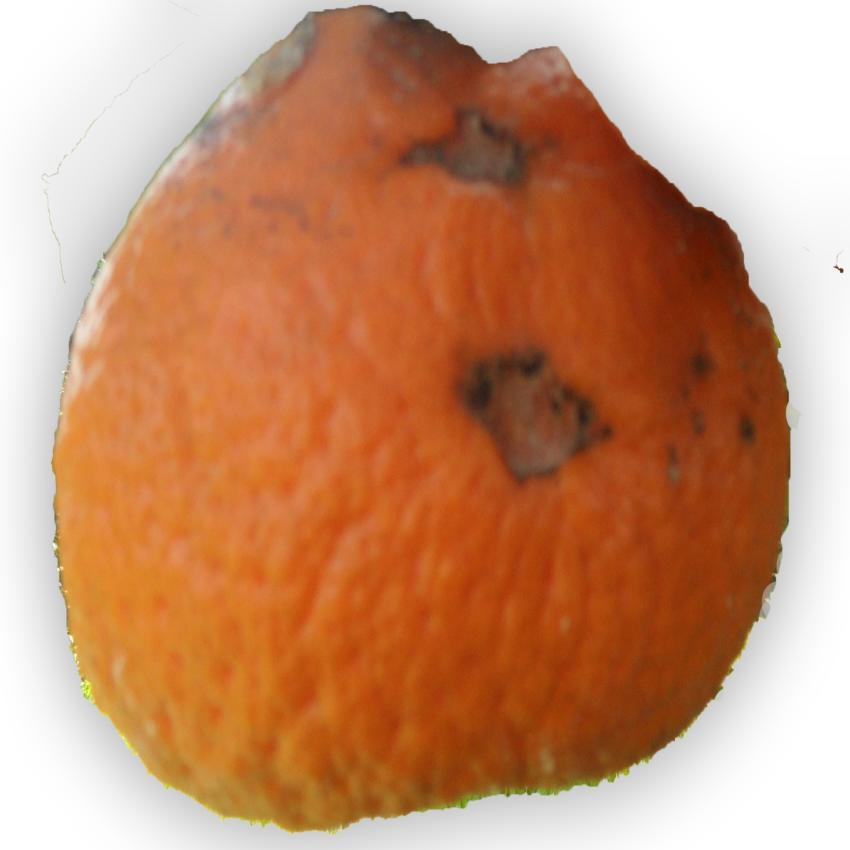Mal estado: (46, 3, 803, 840)
